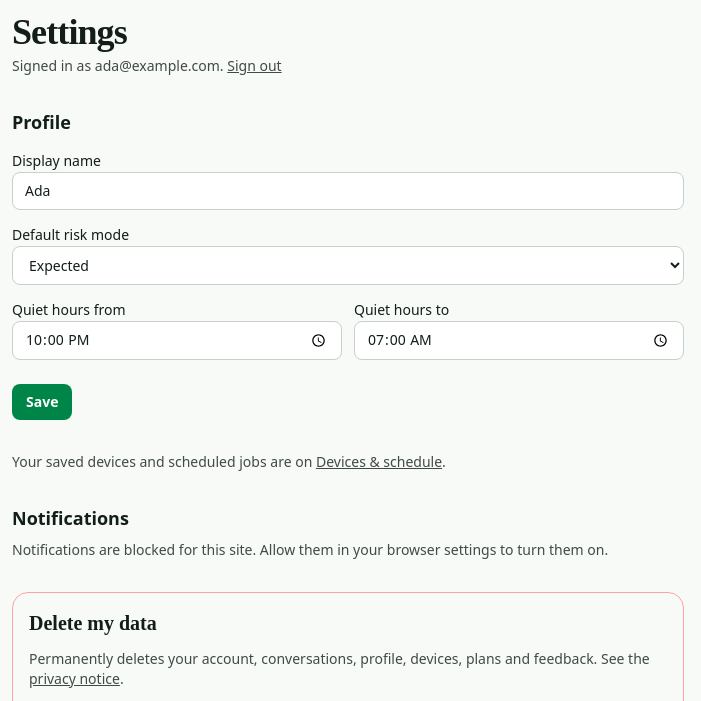
it: Settings › loads, edits and saves the profile only, and links to Devices & schedule
The image size is (701, 701).
Replace the text in the field labelled "Display name" with "Ada L" at (348, 191), box [12,172,684,210]
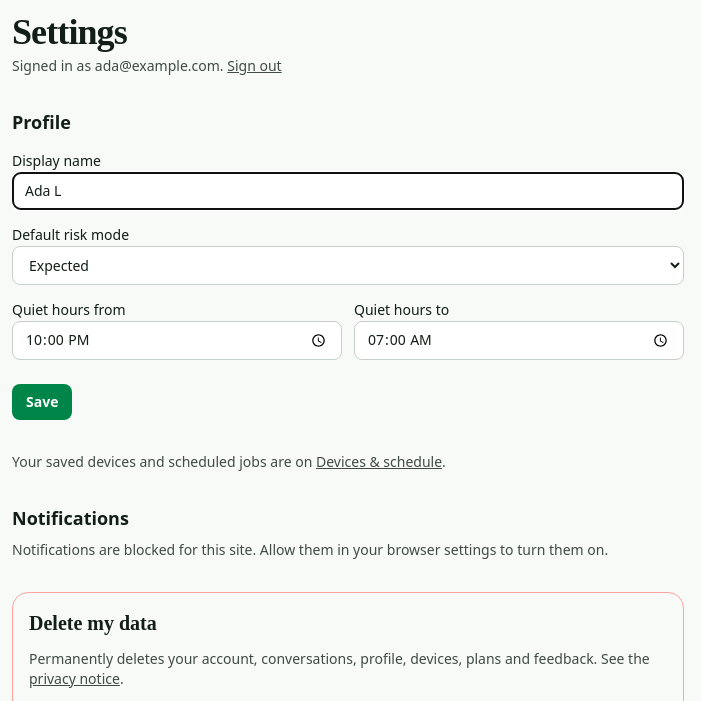
Select "Cautious" in the dropdown labelled "Default risk mode" at (348, 266), box [12,246,684,285]
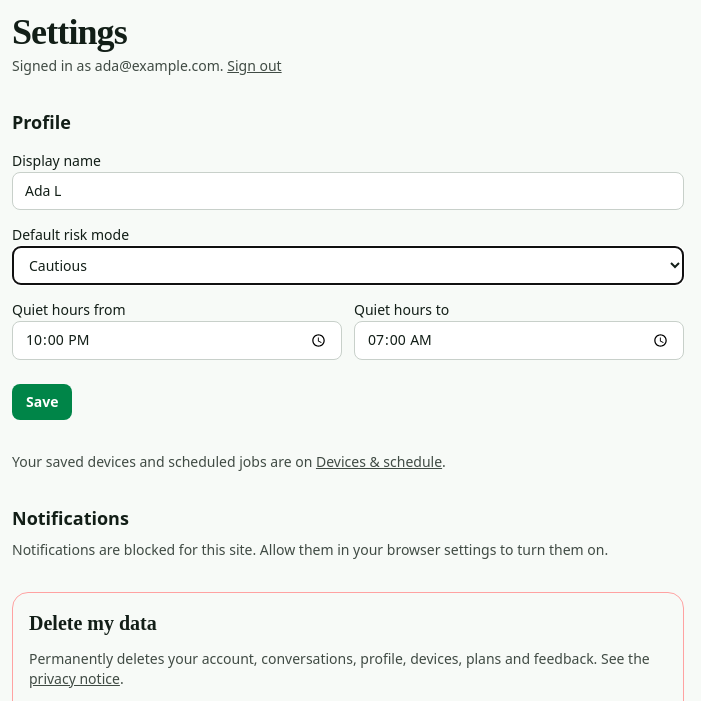
Click the button "Save" at (42, 402), box [12,384,72,420]
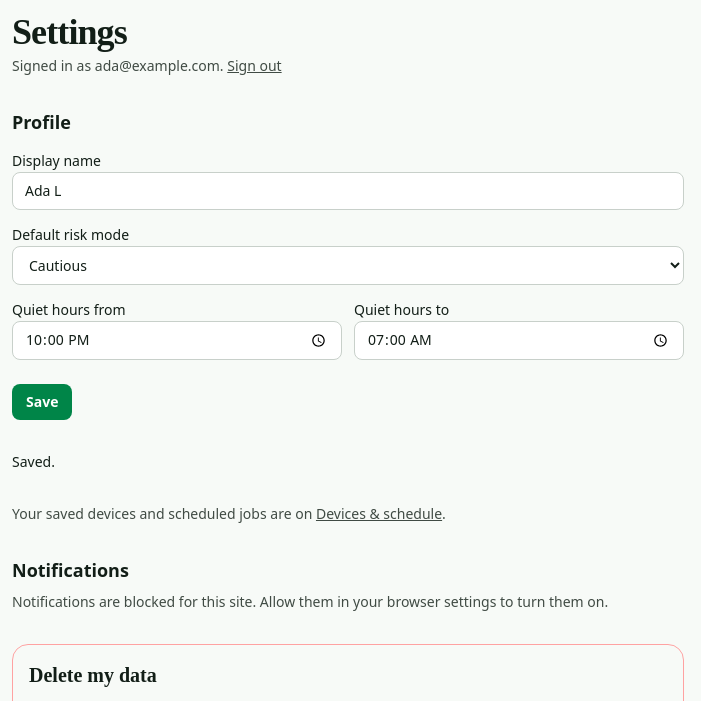
Expected: the text "Saved." is shown, [12,452,55,471]
